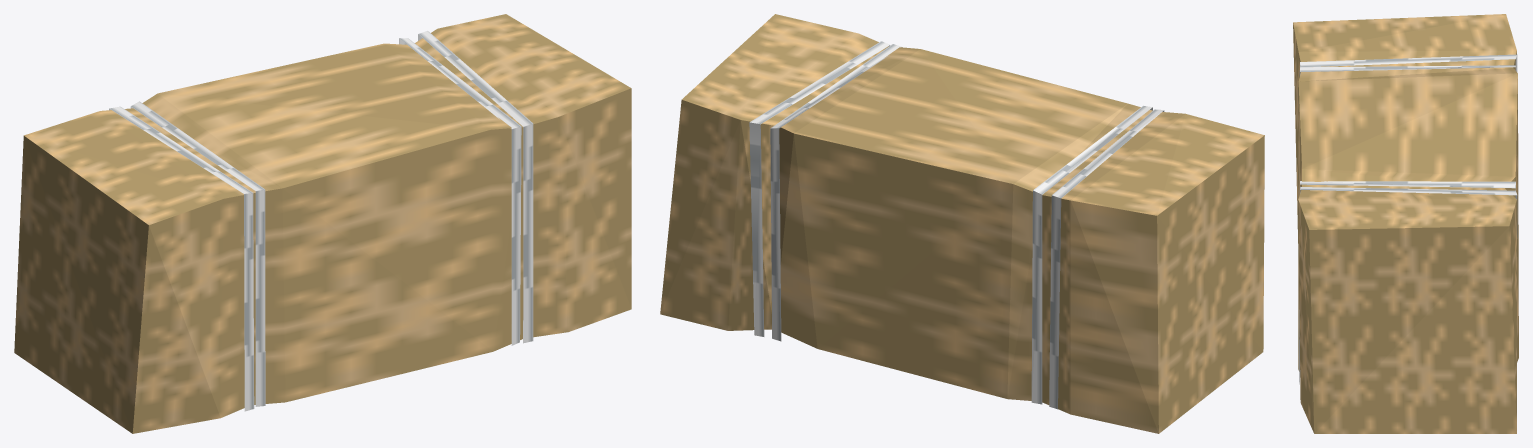
The model's file is Haybale.fbx.
3 views of the same model, side by side, from view 1: azimuth 30°, elevation 25°; view 2: azimuth 150°, elevation 25°; view 3: azimuth 270°, elevation 25° (orthographic). The views are drawn at different scales.
Visible parts, largest first — view 1: Cube; view 2: Cube; view 3: Cube.
Part boxes in pixels (left/top/right/bottom): Cube: left=14, top=14, right=631, bottom=433; Cube: left=660, top=14, right=1264, bottom=433; Cube: left=1293, top=14, right=1518, bottom=433.
Bounding box in the file's own units: 485 × 205 × 207.
